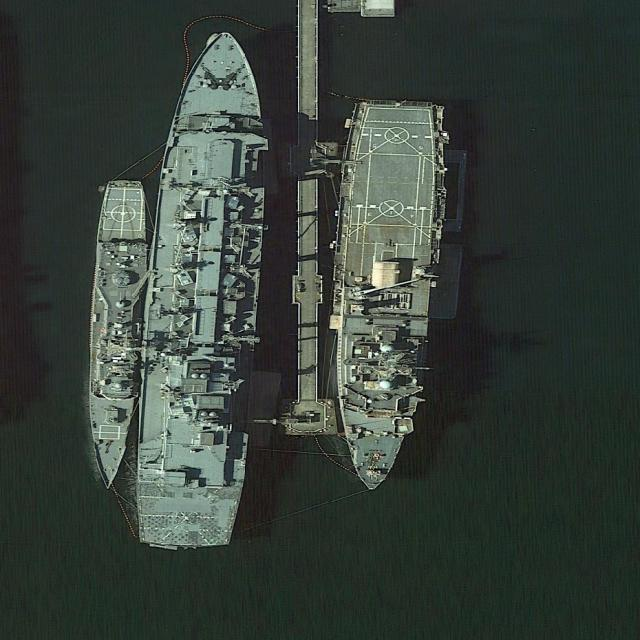Auxiliary Ships: (127, 21, 280, 564)
Dock: (297, 1, 317, 402)
Frigate: (84, 178, 151, 491)
Landing: (317, 94, 451, 494)
